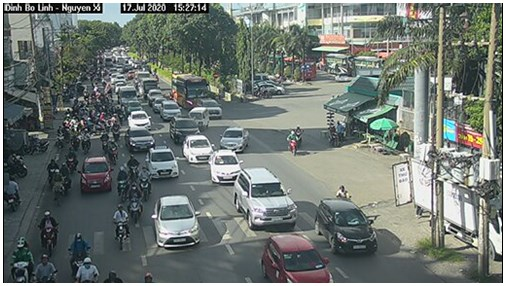xe_buyt: (168, 71, 208, 108)
xe_hoi: (233, 167, 298, 231), (256, 234, 334, 283), (315, 200, 379, 257), (153, 193, 201, 250), (208, 150, 242, 186), (145, 146, 180, 180), (181, 134, 216, 165), (123, 125, 158, 153), (220, 127, 251, 153), (197, 97, 225, 121), (126, 109, 153, 131), (188, 104, 208, 132), (159, 100, 181, 121)
xe_khach: (115, 86, 138, 106)
xe_may: (8, 234, 34, 283), (36, 209, 62, 257), (111, 202, 135, 252), (66, 230, 91, 277), (34, 253, 60, 283), (126, 181, 144, 223), (138, 163, 154, 199), (94, 112, 120, 133), (116, 163, 130, 199), (58, 161, 73, 194), (284, 127, 297, 160), (64, 145, 78, 171), (46, 155, 58, 185), (55, 127, 70, 150), (128, 152, 140, 180), (107, 137, 119, 163), (296, 121, 305, 151), (81, 129, 91, 155)
